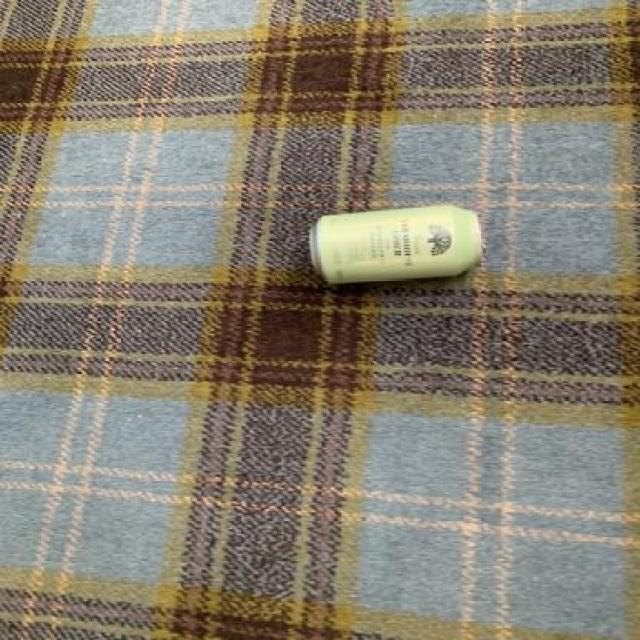trash: (302, 207, 486, 284)
